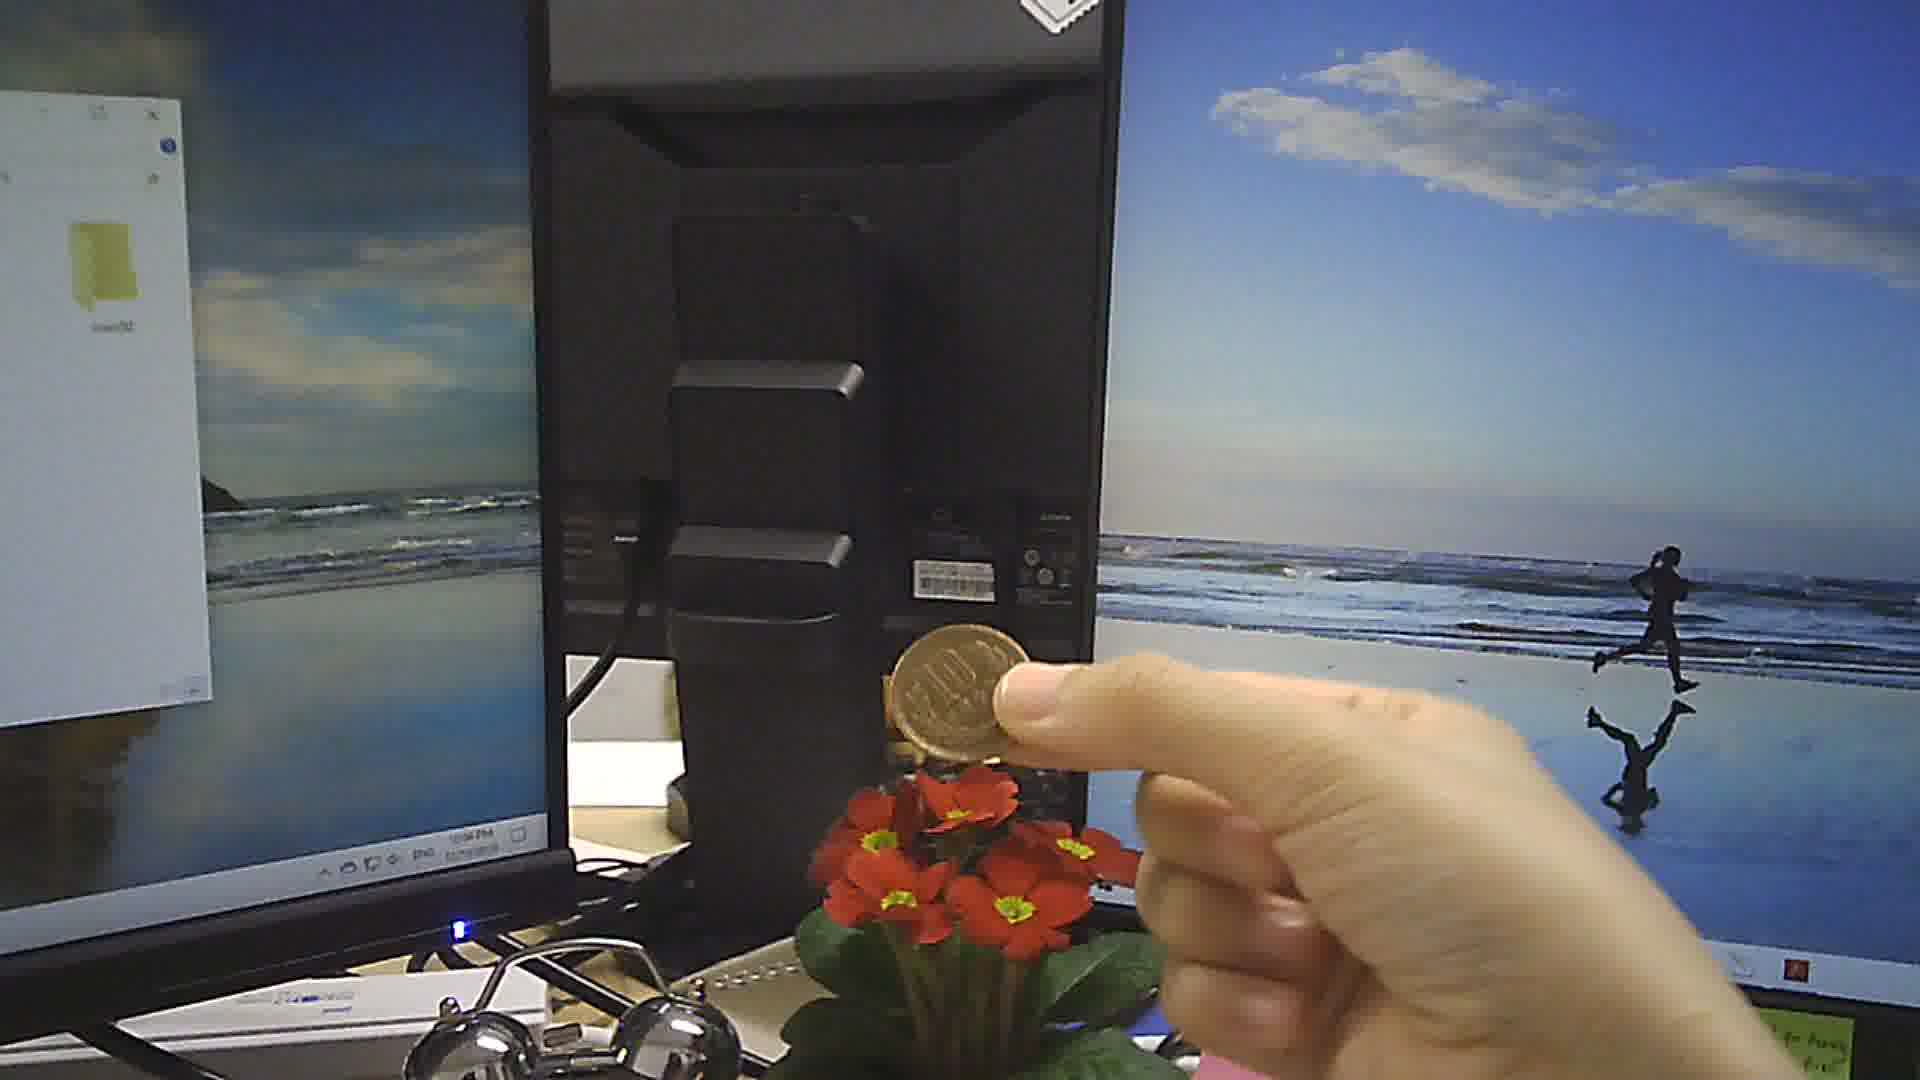10 Yen: (880, 618, 1033, 758)
